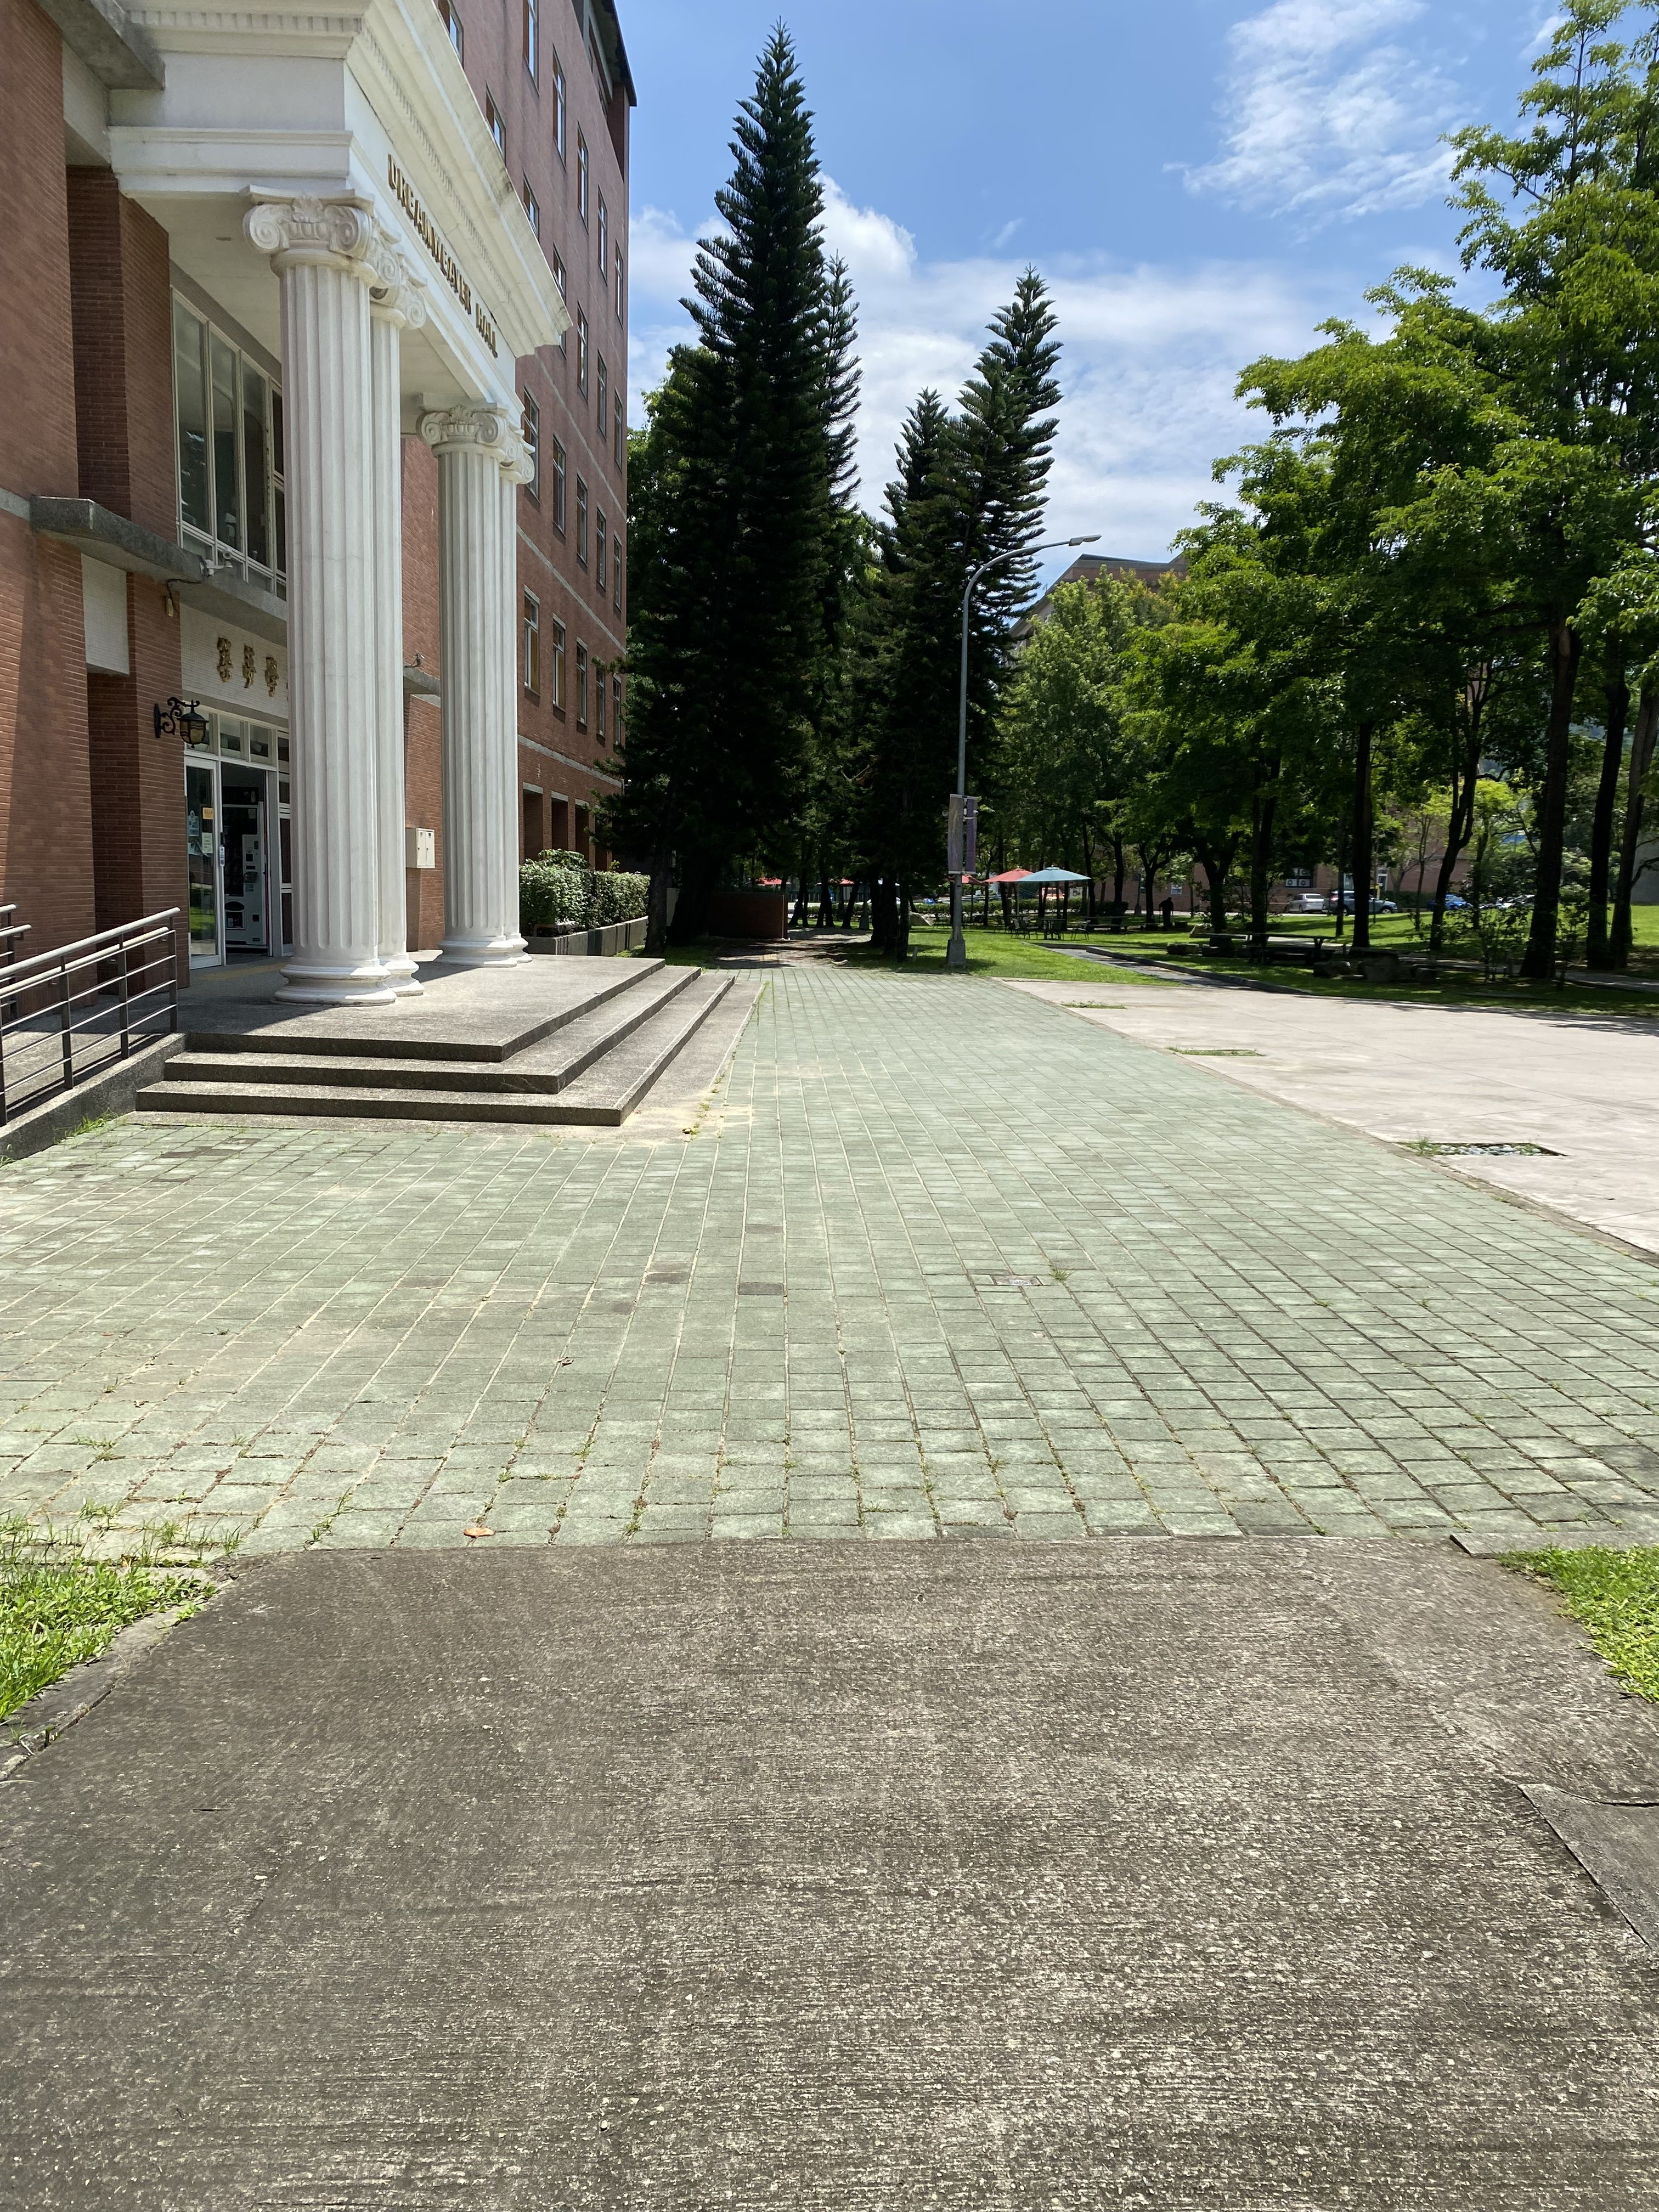0: (30, 1101, 695, 2212)
sidewalk: (615, 860, 1659, 2212)
